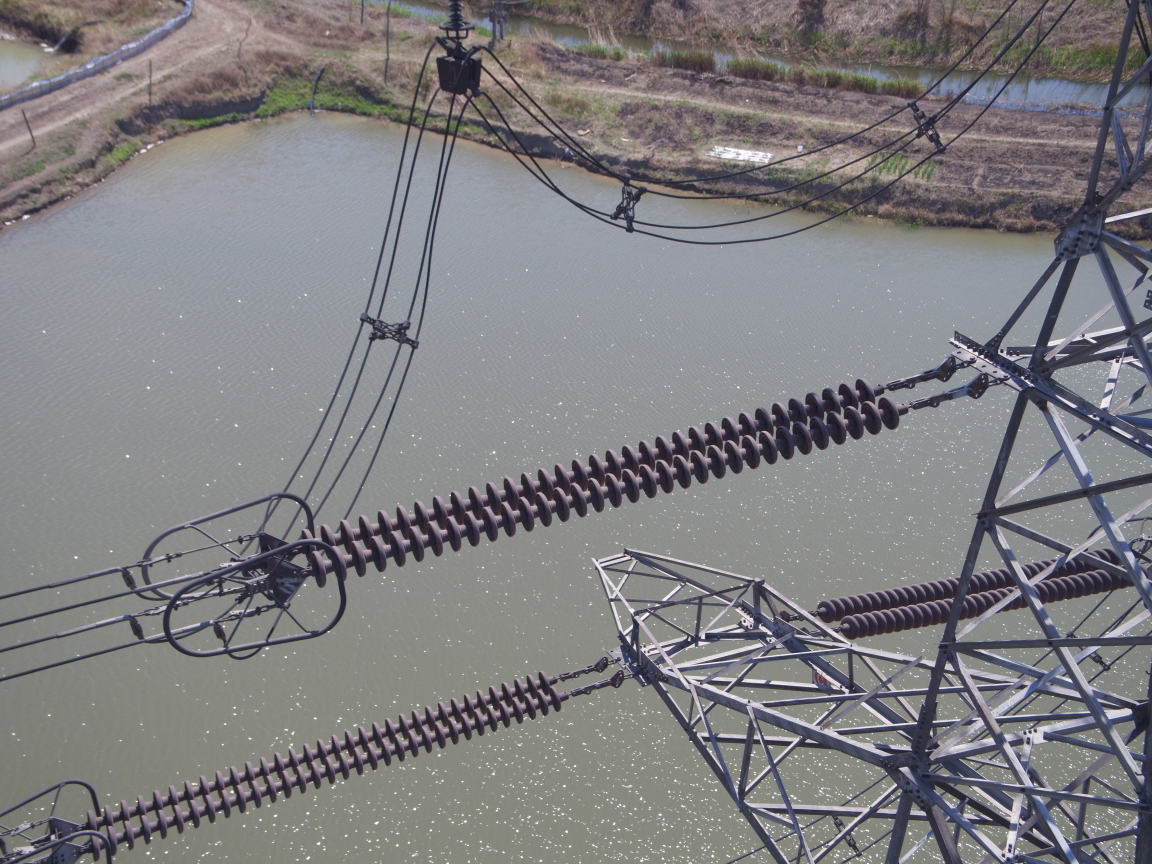insulator: (291, 370, 931, 590), (65, 667, 588, 864)
